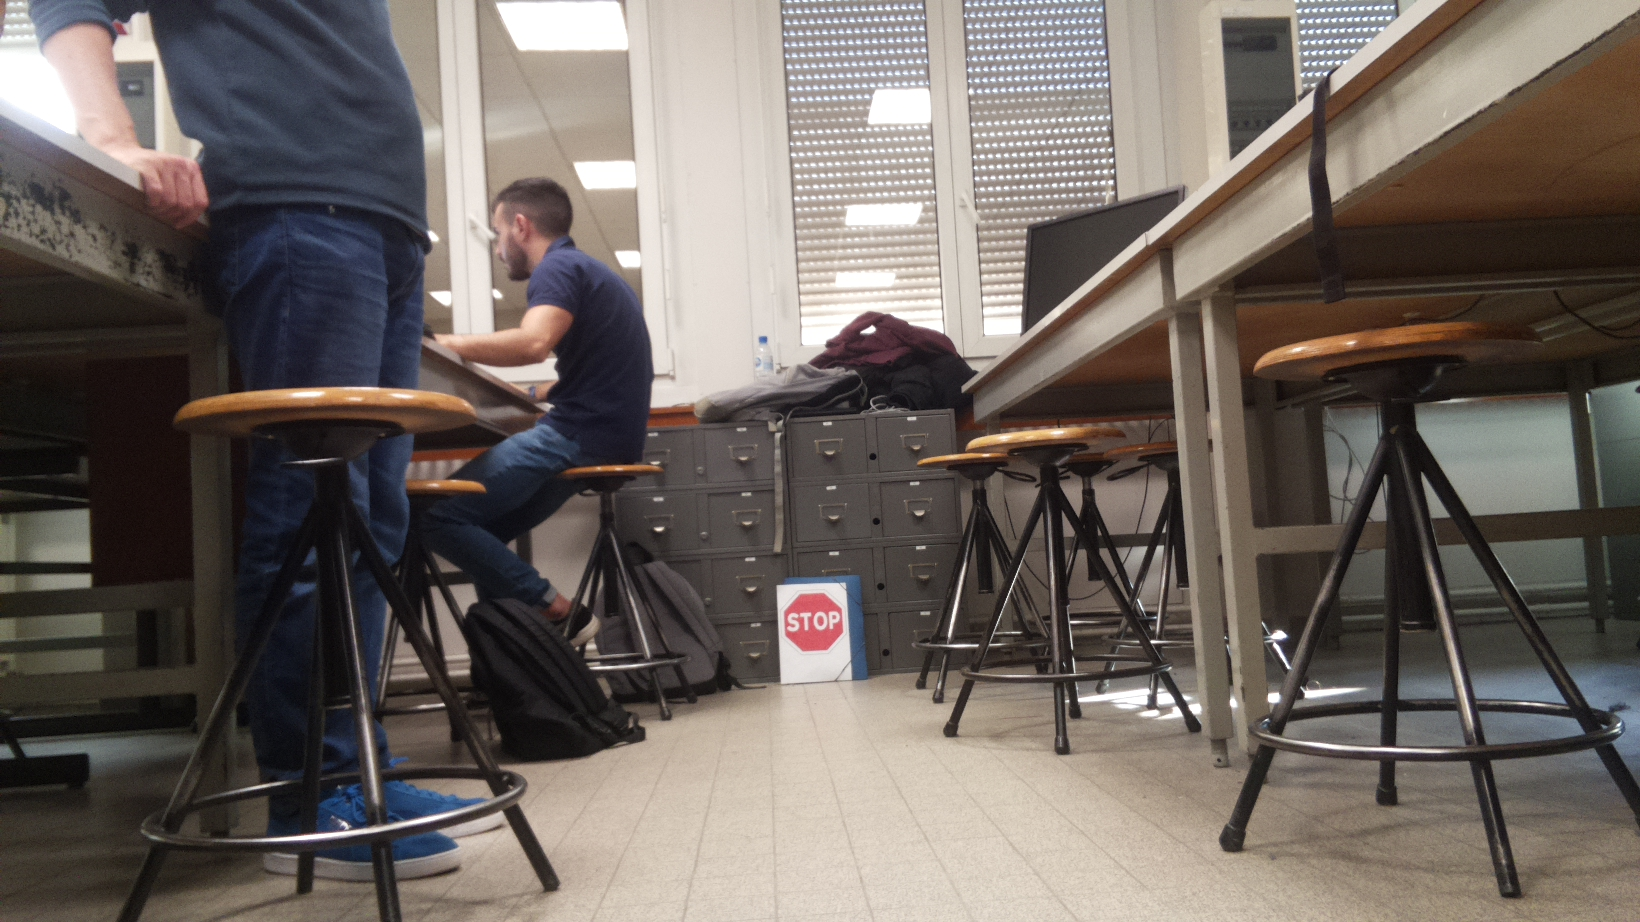stop: (779, 589, 847, 654)
